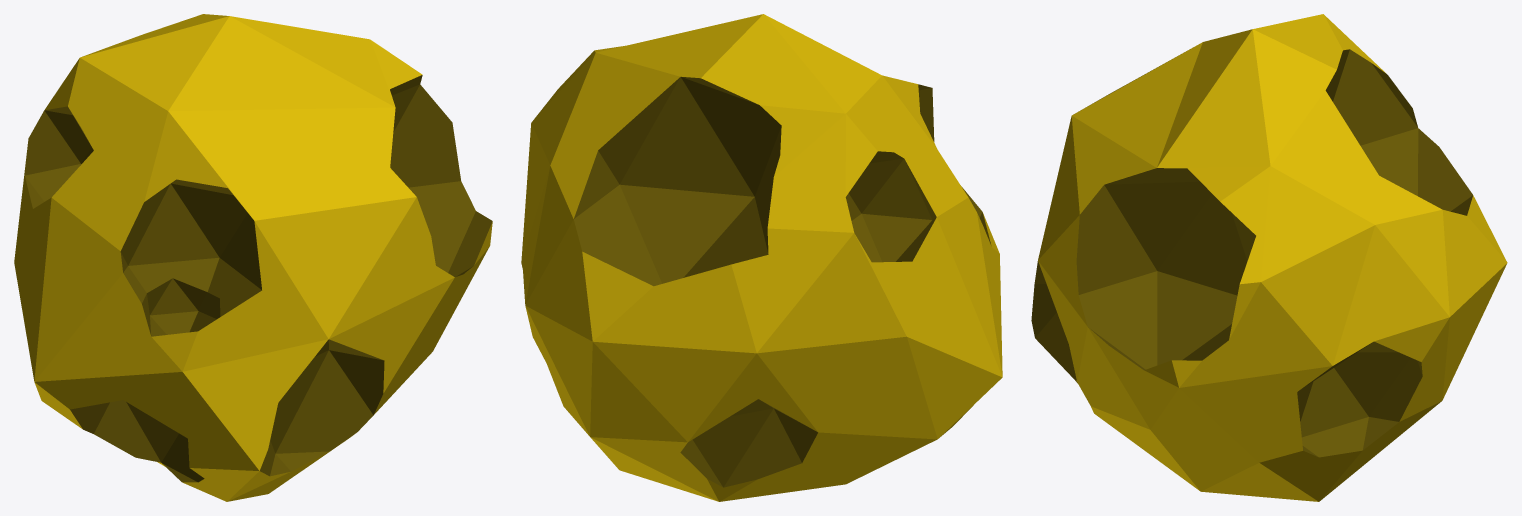
Rendered from meteor_gold.glb.
3 renders of one model, left to right at view 1: azimuth 30°, elevation 25°; view 2: azimuth 150°, elevation 25°; view 3: azimuth 270°, elevation 25°, orthographic. The views are drawn at different scales.
Visible parts, largest first — view 1: Icosphere; view 2: Icosphere; view 3: Icosphere.
Part boxes in pixels (x1=…): Icosphere: x1=14, y1=14, x2=492, y2=501; Icosphere: x1=521, y1=14, x2=1002, y2=501; Icosphere: x1=1031, y1=14, x2=1507, y2=501.
Size of the model in its own units: 2.32 by 2.29 by 2.25.
